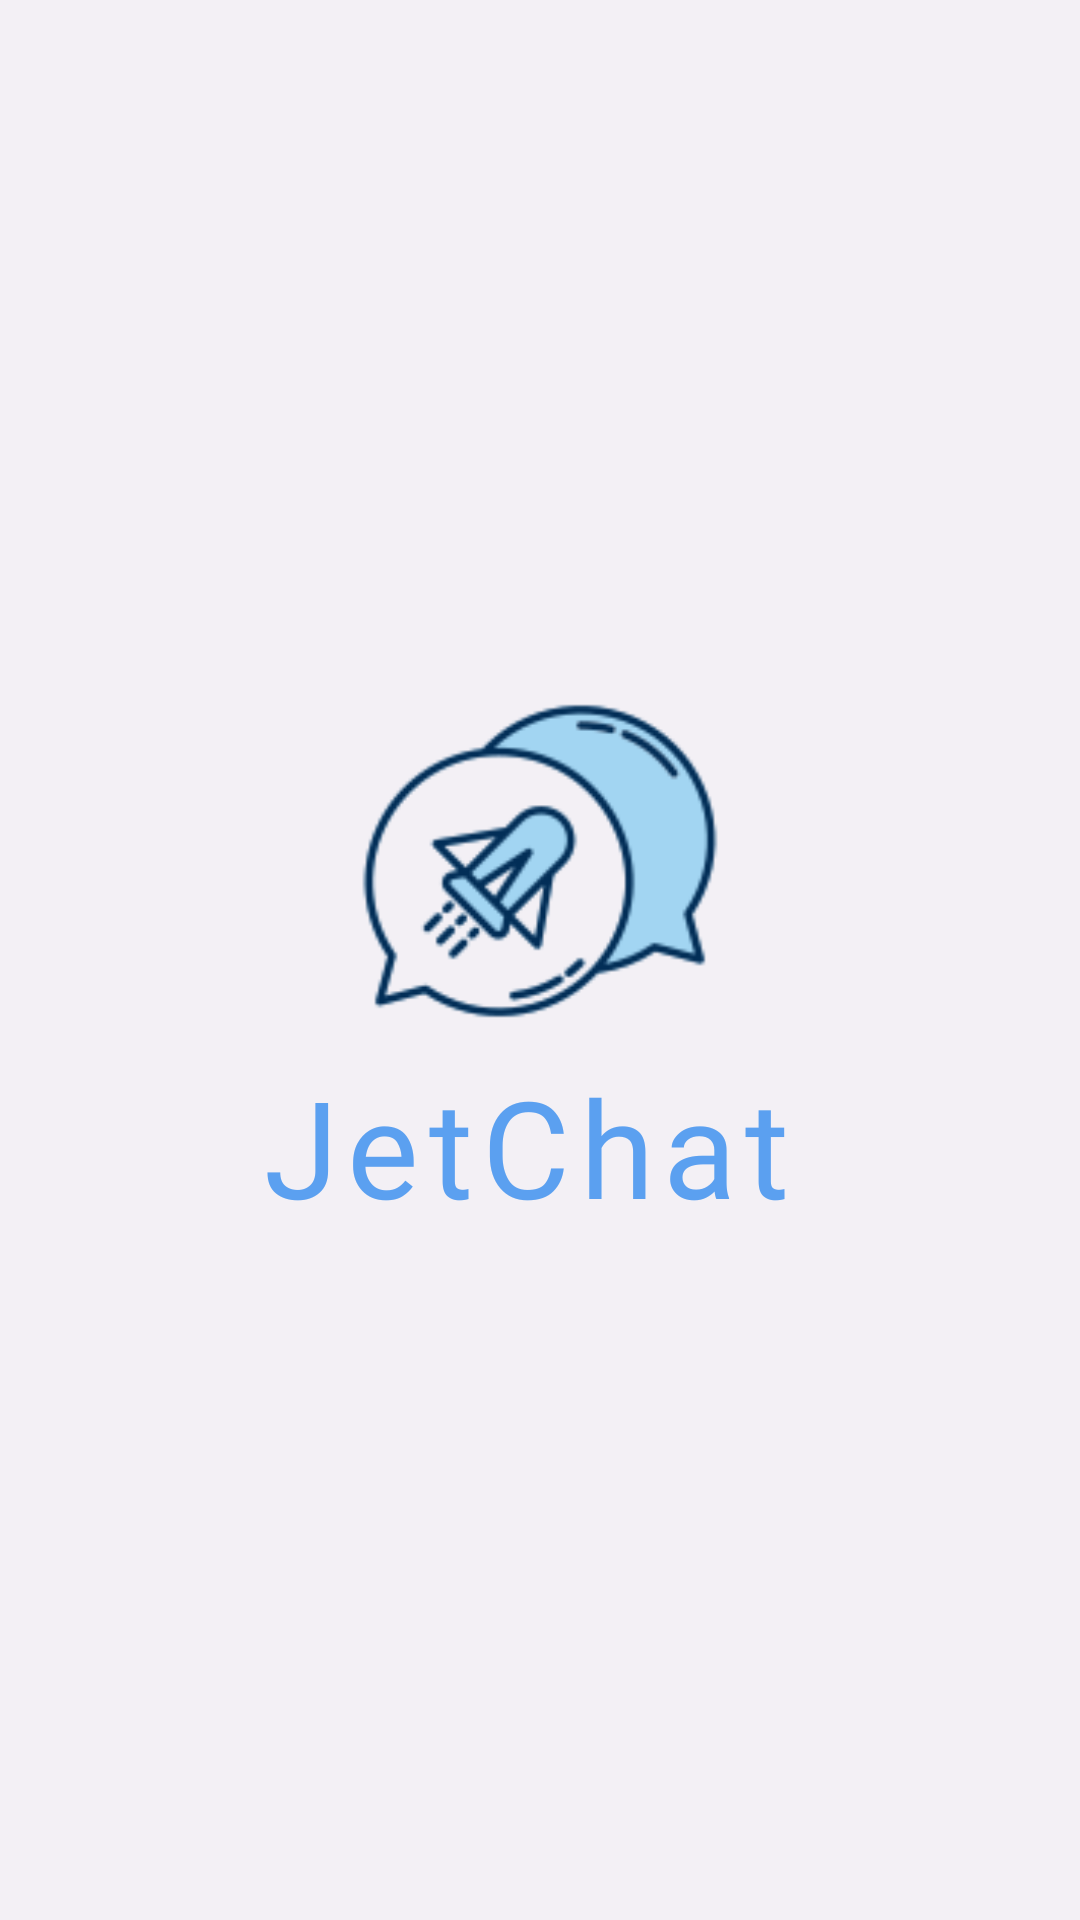

Where to tap for icons on this 1080 × 1920 app screen, as (x=x, y=y):
rocket: (x=540, y=861)
